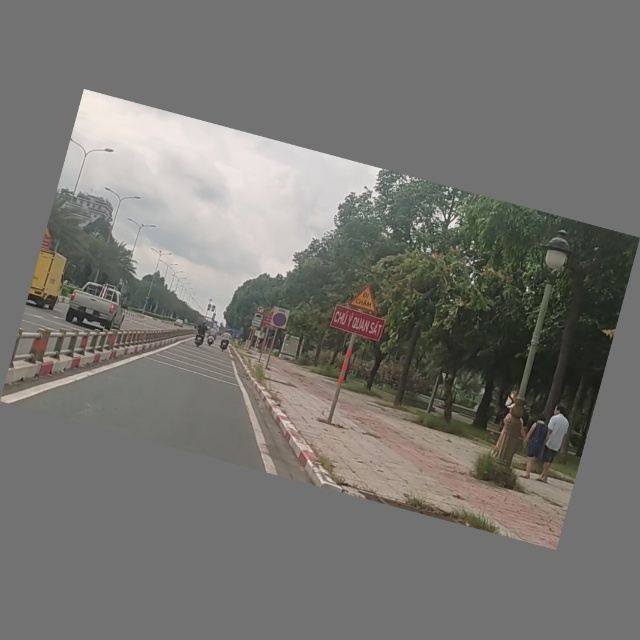P.123b: (255, 305, 267, 316)
P.130: (267, 306, 291, 332)
S.505a*Xe tai: (251, 312, 264, 329)
W.245a: (348, 282, 384, 315)
